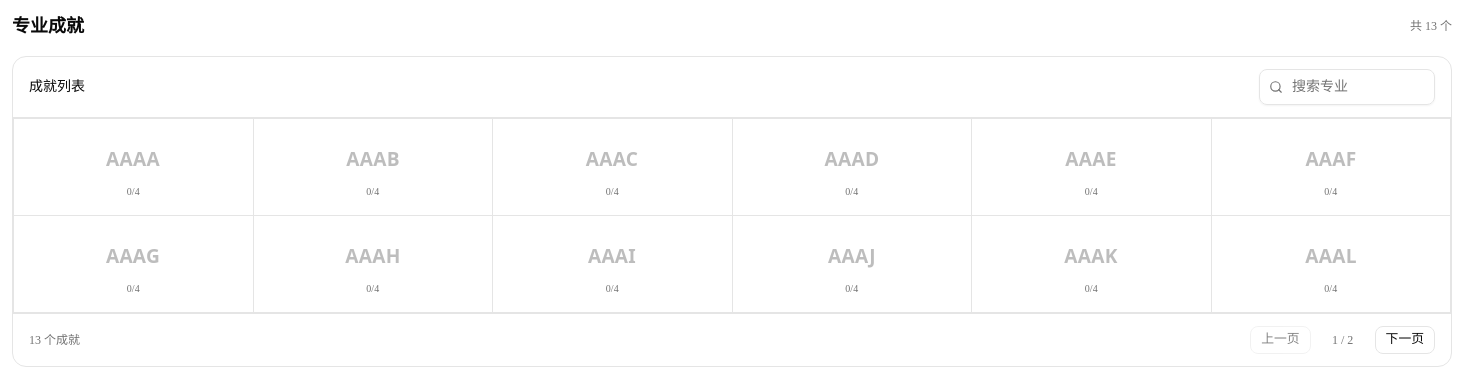
Test: ProfessionalAchievementInventory › paginates the backpack in groups of 12
The width and height of the screenshot is (1464, 384).
expect the text "1 / 2" is shown: met, box [1332,333,1353,347]
What coordinates should you click on to do the following:
click the button "下一页"
I would click on:
 (1405, 340)
Its box is [1375,326,1435,354].
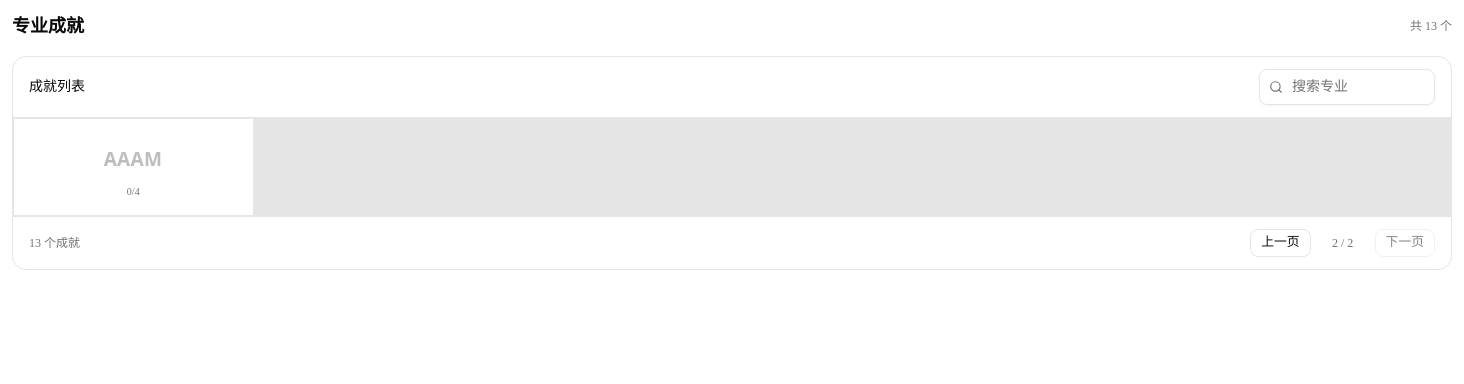
expect the text "2 / 2" is shown: met, box [1332,236,1353,250]
